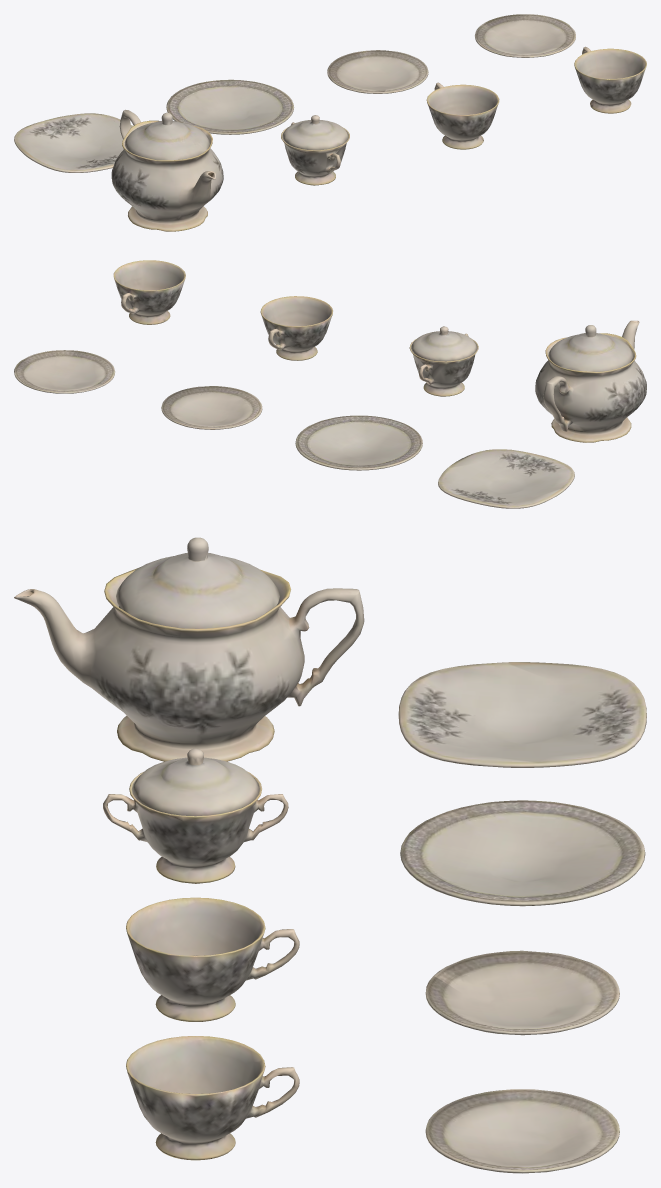
The model's file is tea-set.glb.
The picture shows the model from 3 angles, top to bottom: view 1: azimuth 30°, elevation 25°; view 2: azimuth 150°, elevation 25°; view 3: azimuth 270°, elevation 25°; orthographic projection. The views are drawn at different scales.
Visible parts, largest first — view 1: tea_set_01_plate_large_square_01; view 2: tea_set_01_plate_large_square_01; view 3: tea_set_01_plate_large_square_01.
Part boxes in pixels (x1,y1,x2,y2): tea_set_01_plate_large_square_01: (14, 14, 646, 231); tea_set_01_plate_large_square_01: (14, 260, 646, 508); tea_set_01_plate_large_square_01: (14, 537, 646, 1173).
Bounding box in the file's own units: 0.9183 × 0.165 × 0.4839.
1 material, 1 textured.
